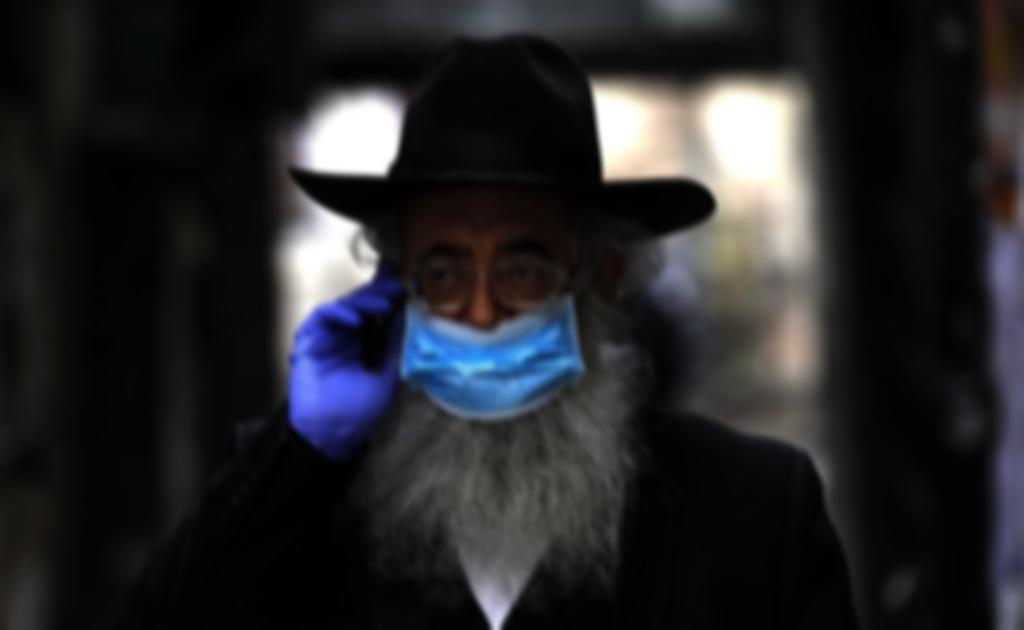mask_weared_incorrect: (385, 192, 623, 427)
